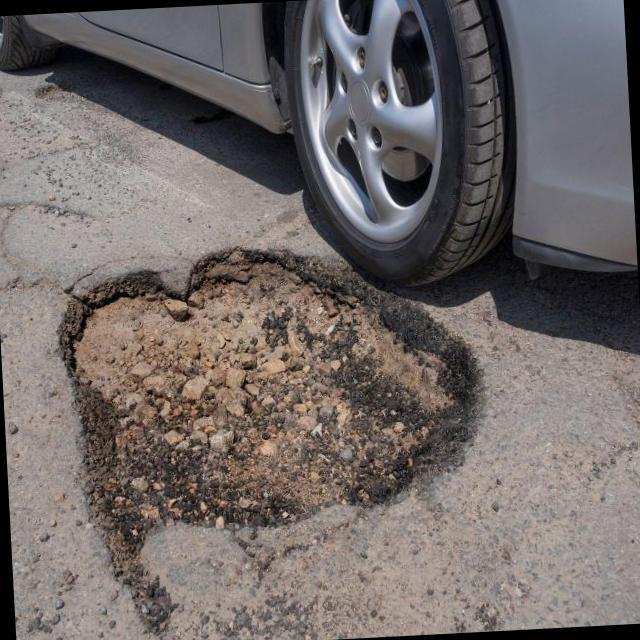Pothole: (59, 248, 478, 632)
